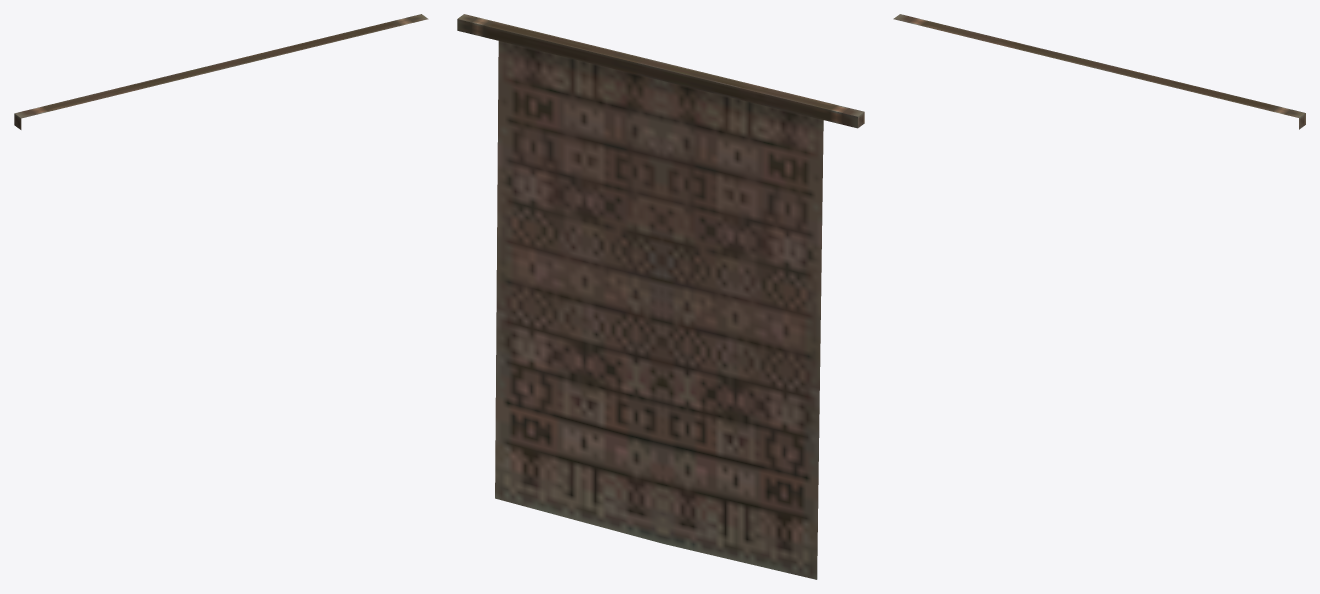
Rendered from OZ_20_ns_aobj03A.glb.
3 views of the same model, side by side, from view 1: azimuth 30°, elevation 25°; view 2: azimuth 150°, elevation 25°; view 3: azimuth 330°, elevation 25° (orthographic).
Visible parts, largest first — view 1: OM_20_ns_aobj03A; view 2: OM_20_ns_aobj03A; view 3: OM_20_ns_aobj03A.
Boxes of the visible parts, x1=… form: OM_20_ns_aobj03A: x1=14, y1=14, x2=428, y2=129; OM_20_ns_aobj03A: x1=457, y1=14, x2=864, y2=579; OM_20_ns_aobj03A: x1=893, y1=14, x2=1305, y2=129.
Bounding box in the file's own units: 0.8957 × 1.03 × 0.038.
Materials: 1 (1 with a texture image).
